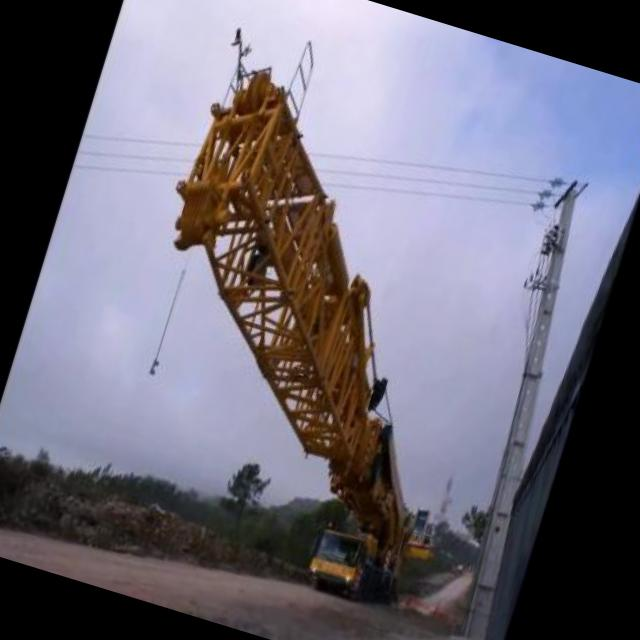Mobile Crane: (75, 6, 568, 618)
